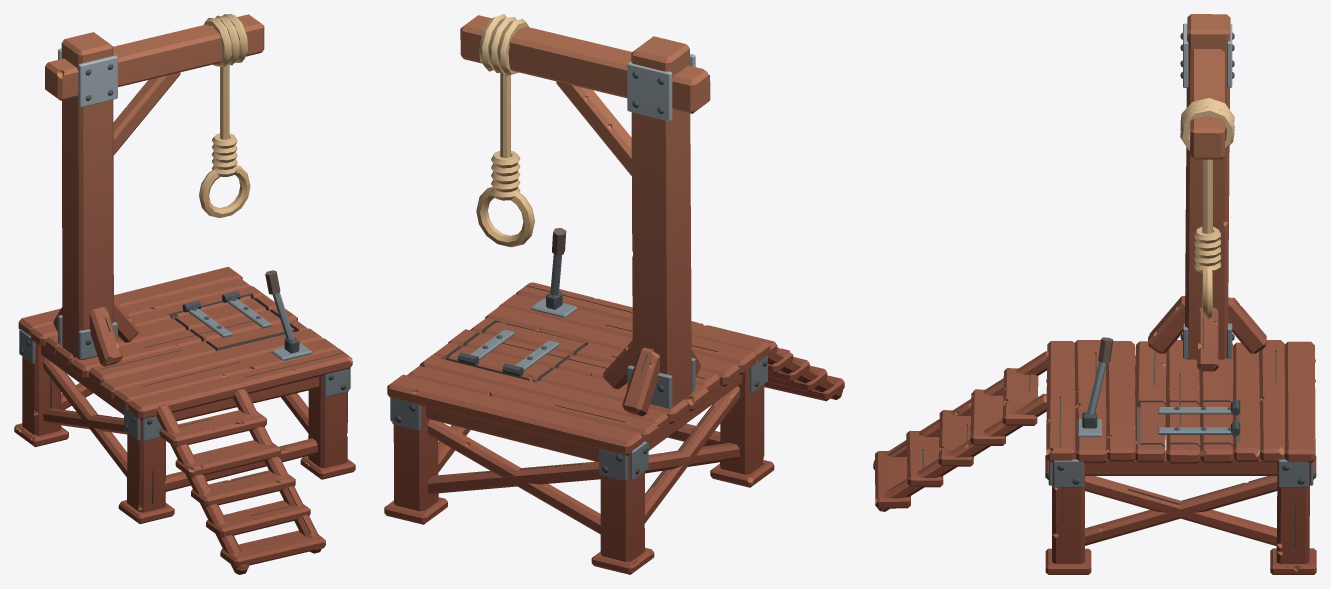
The model's file is gallows.glb.
The picture shows the model from 3 angles, left to right: view 1: azimuth 30°, elevation 25°; view 2: azimuth 150°, elevation 25°; view 3: azimuth 270°, elevation 25°; orthographic projection. The views are drawn at different scales.
Parts seen in each view (by area): view 1: gallows; view 2: gallows; view 3: gallows.
Boxes of the visible parts, x1,y1,x2,y2 form: gallows: (14,14,355,574); gallows: (384,14,844,574); gallows: (873,14,1316,574).
Bounding box in the file's own units: 3.75 × 6.6 × 5.83.
1 material, 1 textured.
